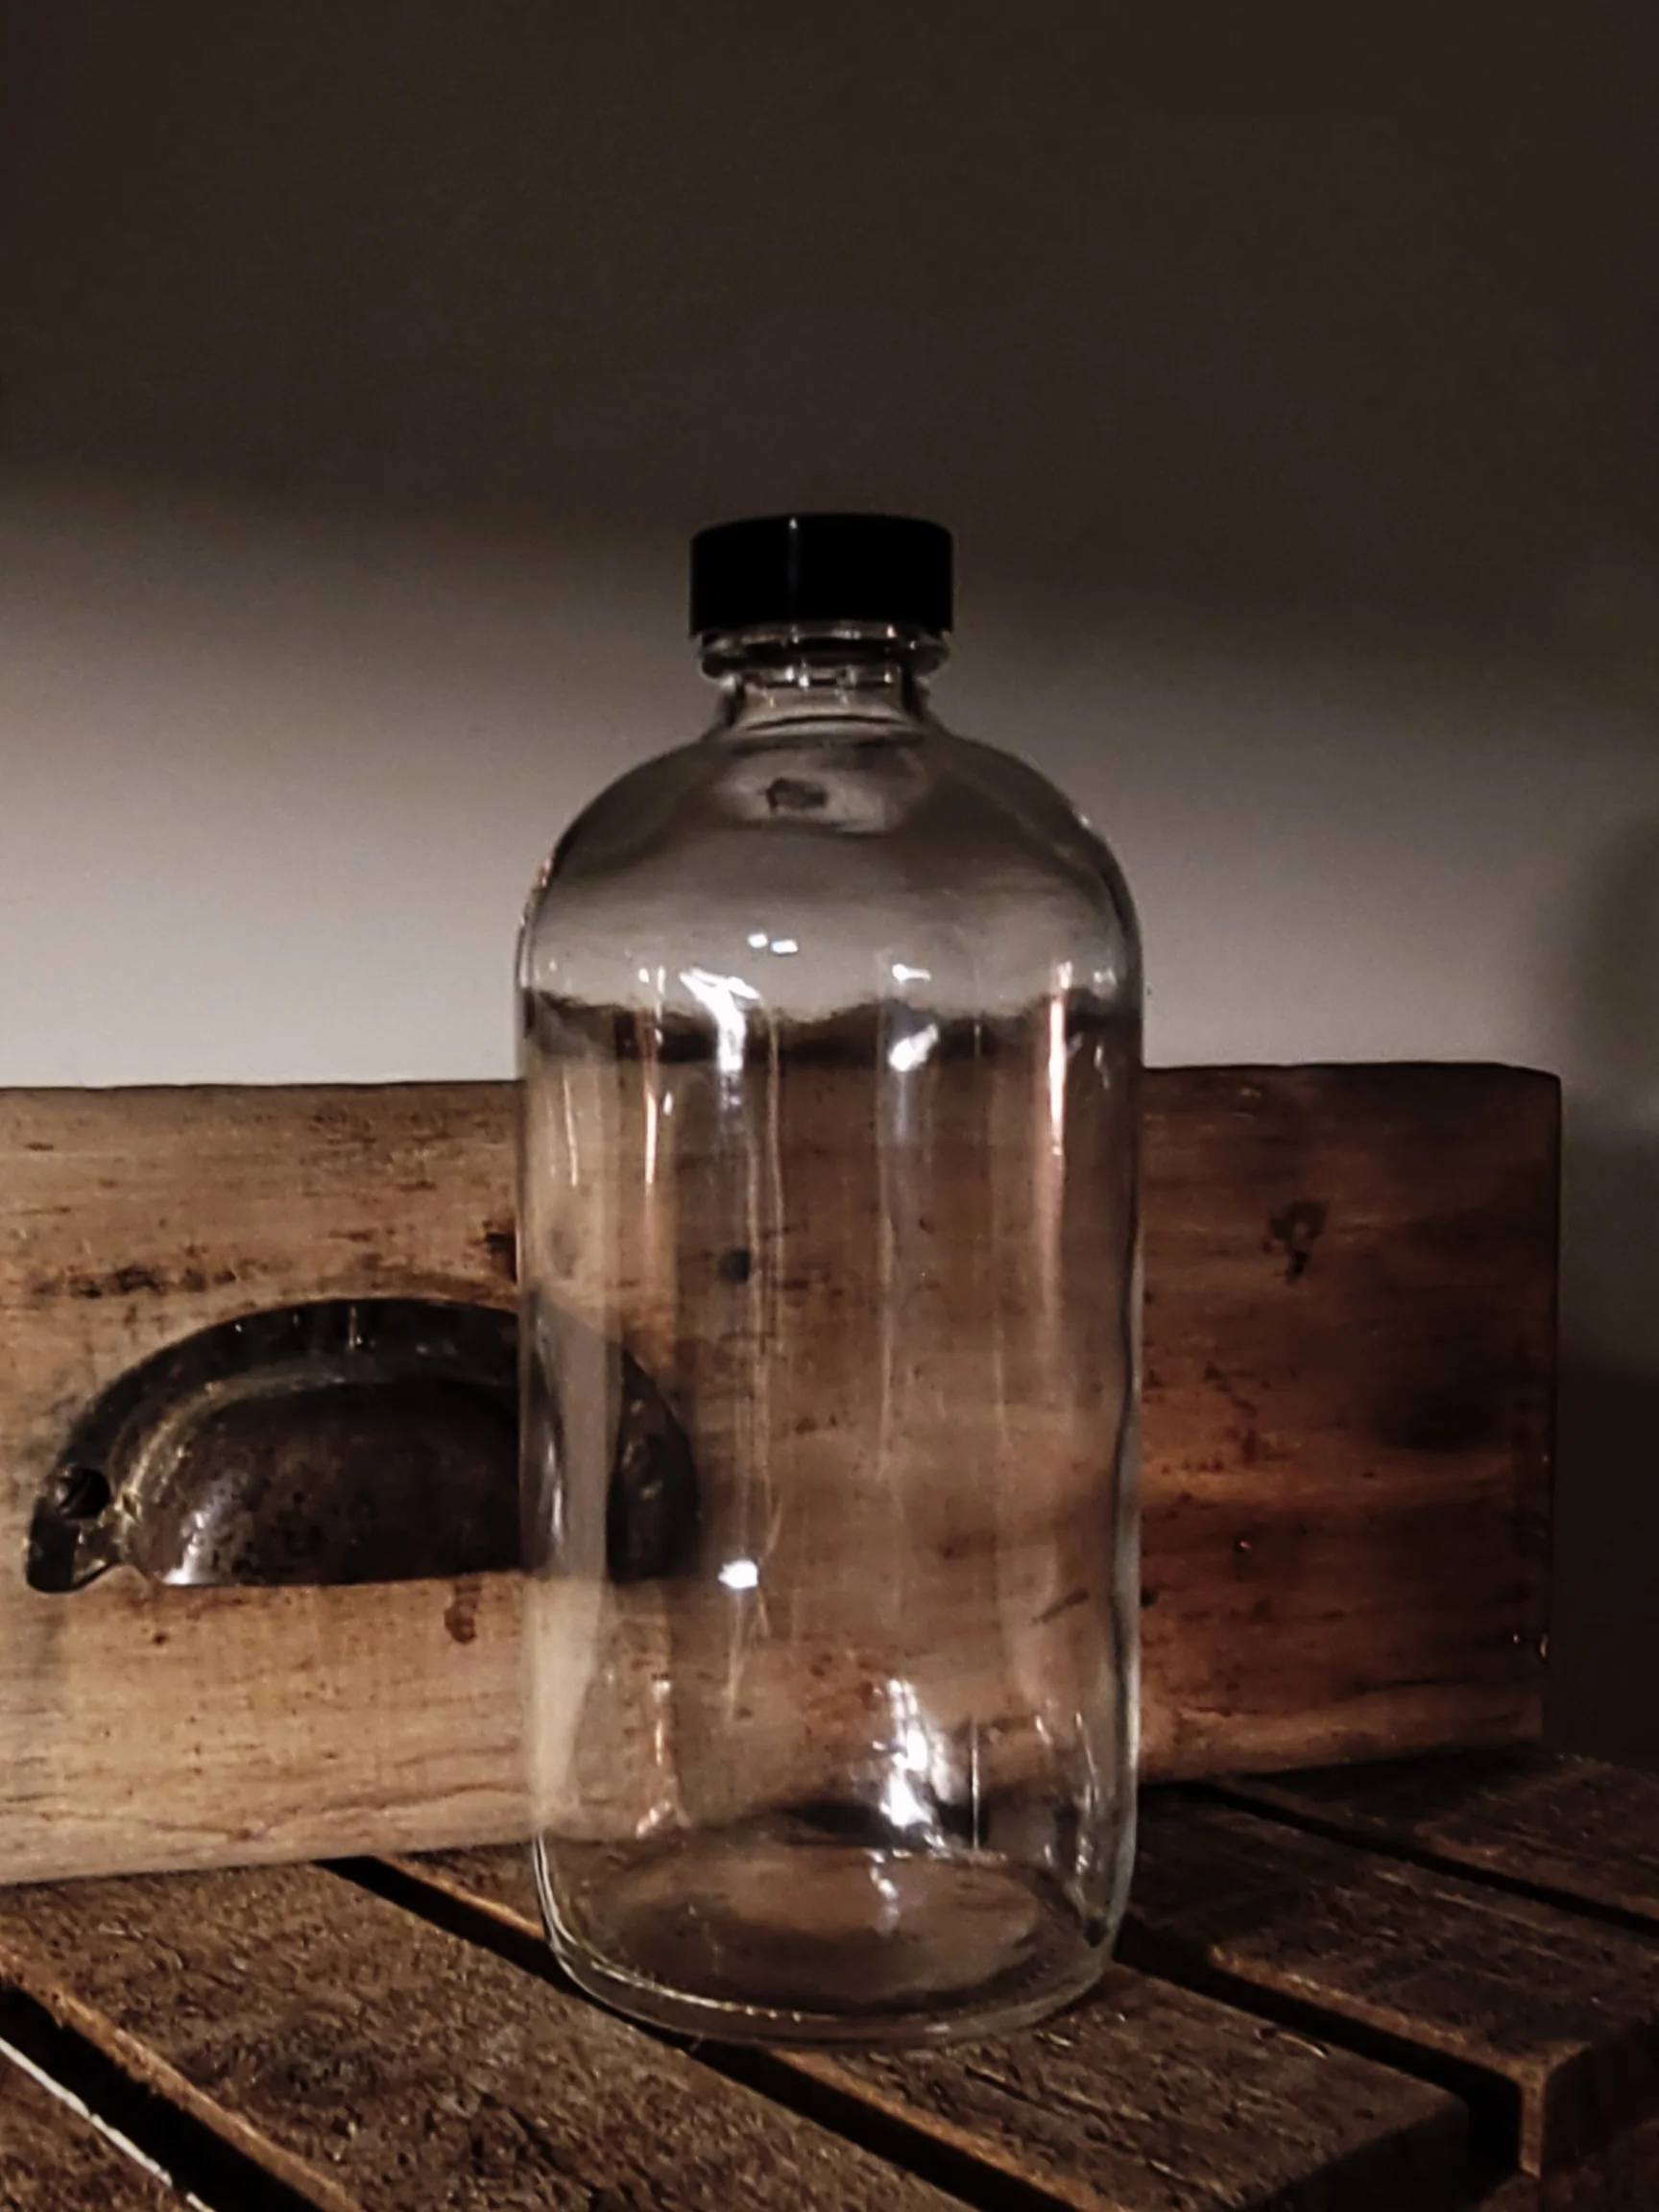glass_bottle: (451, 467, 1201, 2076)
